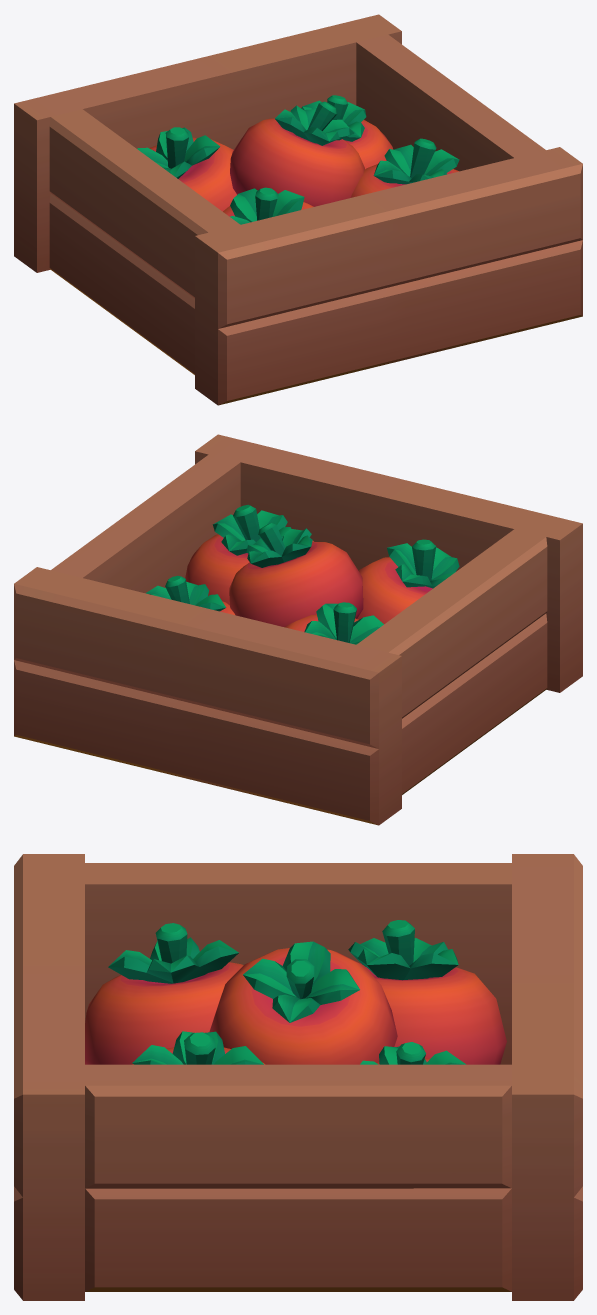
File: kay-caixa-tomates.gltf
The picture shows the model from 3 angles, top to bottom: view 1: azimuth 30°, elevation 25°; view 2: azimuth 150°, elevation 25°; view 3: azimuth 270°, elevation 25°; orthographic projection. The views are drawn at different scales.
Visible parts, largest first — view 1: crate_tomatoes; view 2: crate_tomatoes; view 3: crate_tomatoes.
Boxes of the visible parts, x1=… form: crate_tomatoes: x1=14, y1=14, x2=582, y2=405; crate_tomatoes: x1=14, y1=434, x2=582, y2=825; crate_tomatoes: x1=14, y1=854, x2=582, y2=1300.
Bounding box in the file's own units: 1.3 × 0.6001 × 1.3.
1 material, 1 textured.
